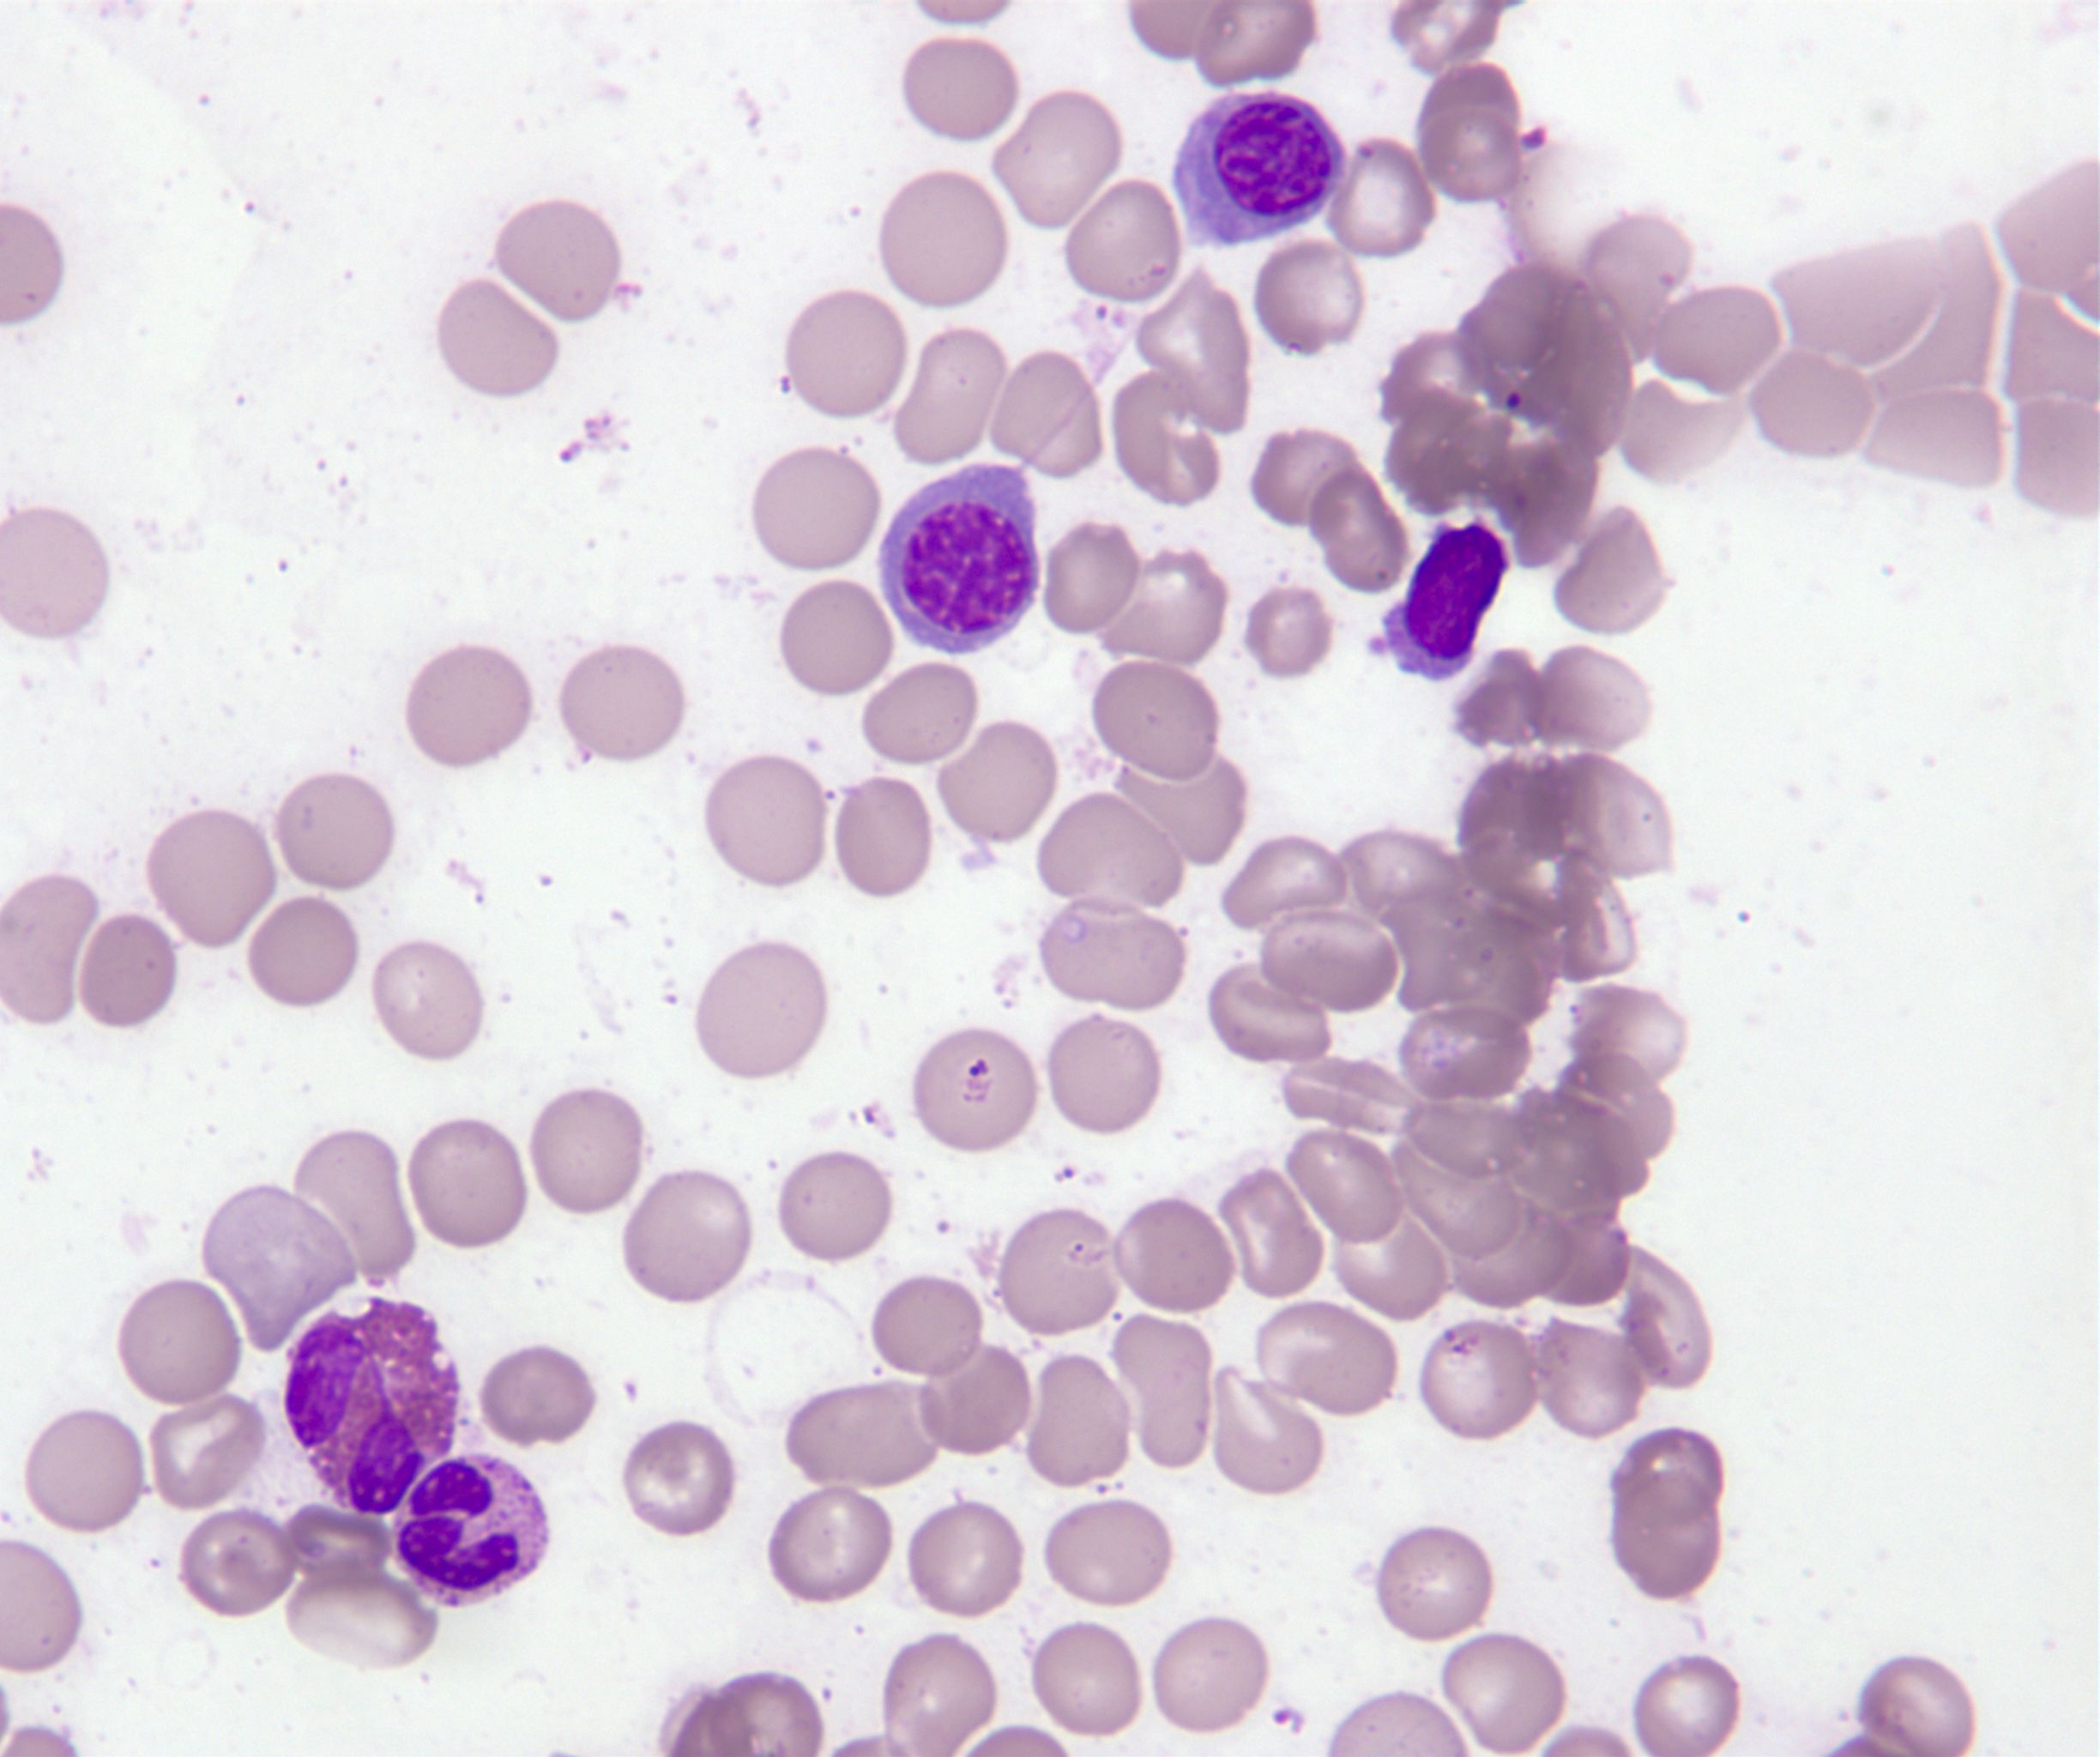23: (877, 464, 1040, 654), (1172, 92, 1348, 250)
32: (1367, 516, 1509, 679)
6: (389, 1453, 549, 1607)
E4: (284, 1296, 459, 1513)
